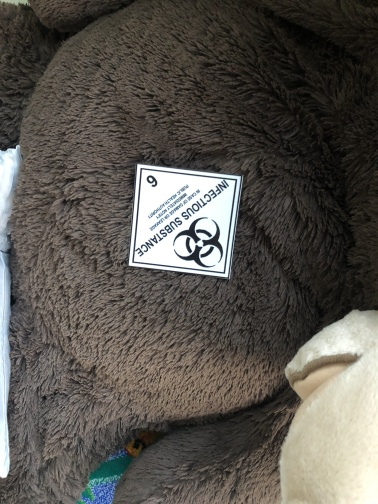InfectiousSubstance: (127, 164, 244, 279)
